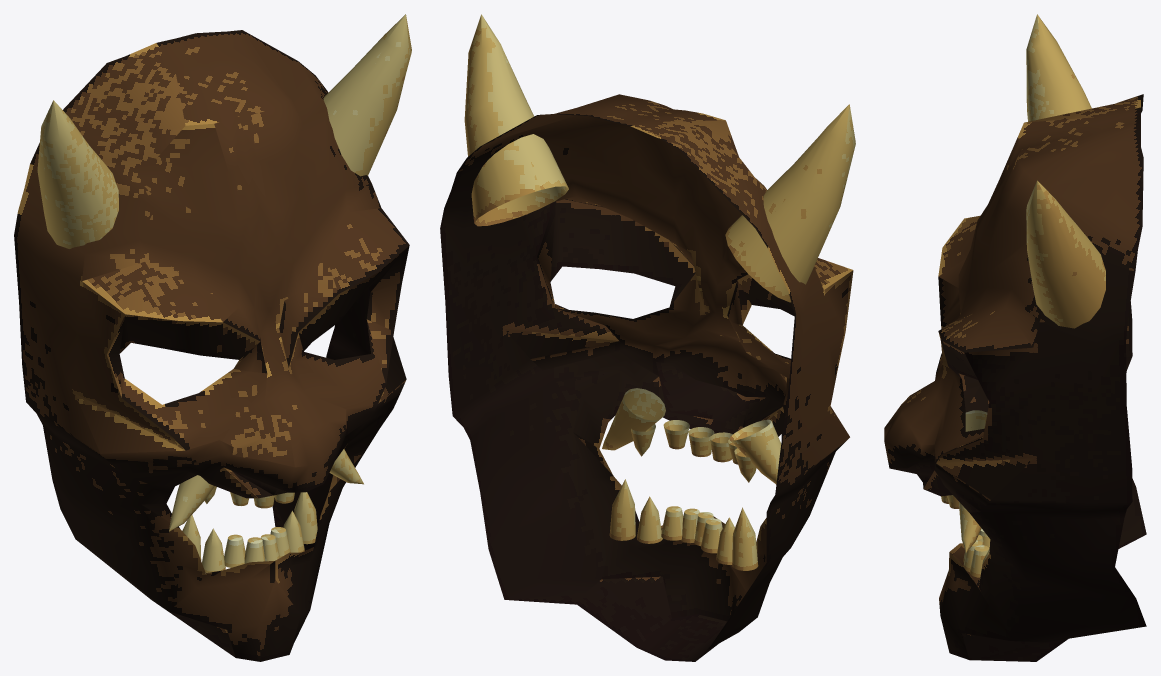
Rendered from wear_onimask2.glb.
3 views of the same model, side by side, from view 1: azimuth 30°, elevation 25°; view 2: azimuth 150°, elevation 25°; view 3: azimuth 270°, elevation 25° (orthographic). The views are drawn at different scales.
Visible parts, largest first — view 1: mesh; view 2: mesh; view 3: mesh.
Part boxes in pixels (bbox=[...]): mesh: bbox=[14, 14, 411, 661]; mesh: bbox=[440, 14, 855, 661]; mesh: bbox=[884, 14, 1146, 661].
Size of the model in its own units: 0.1467 by 0.22 by 0.0941.
1 material, 1 textured.
